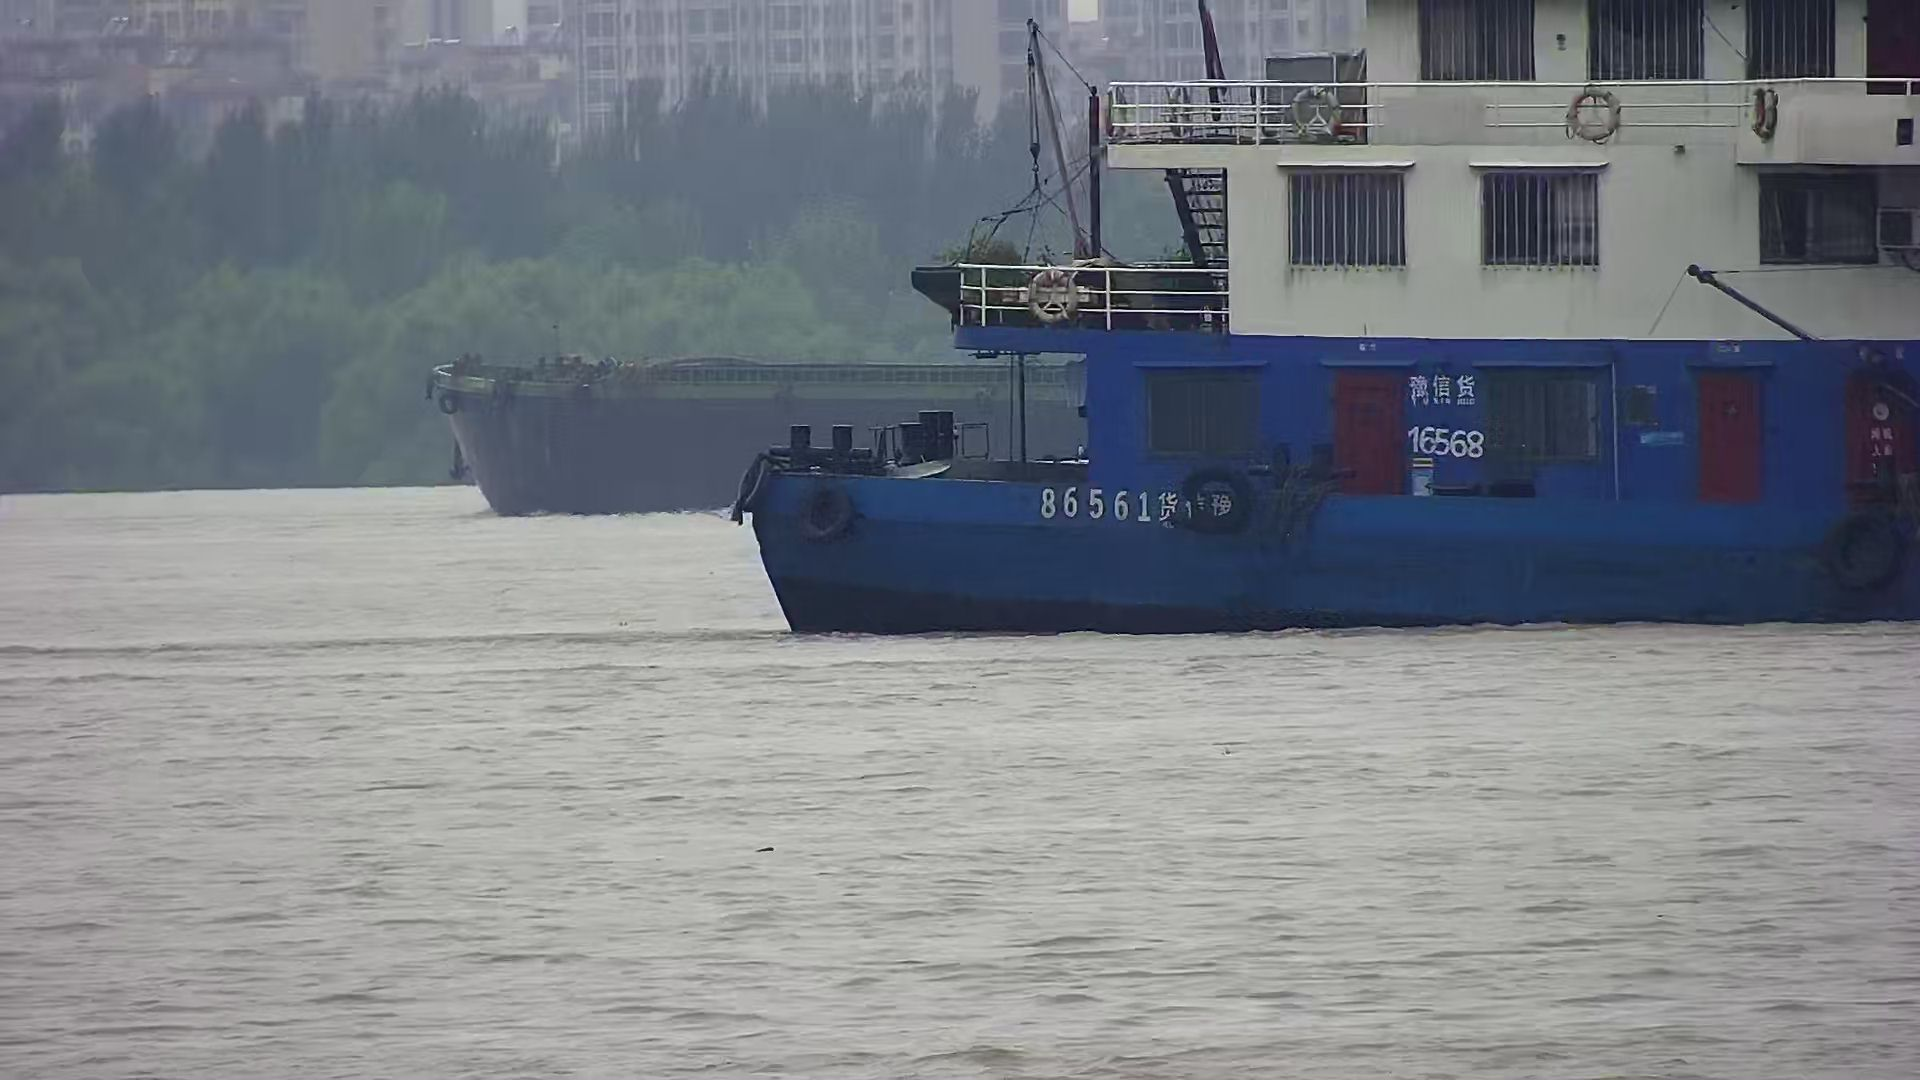ship: (741, 3, 1920, 634), (430, 345, 1084, 513)
